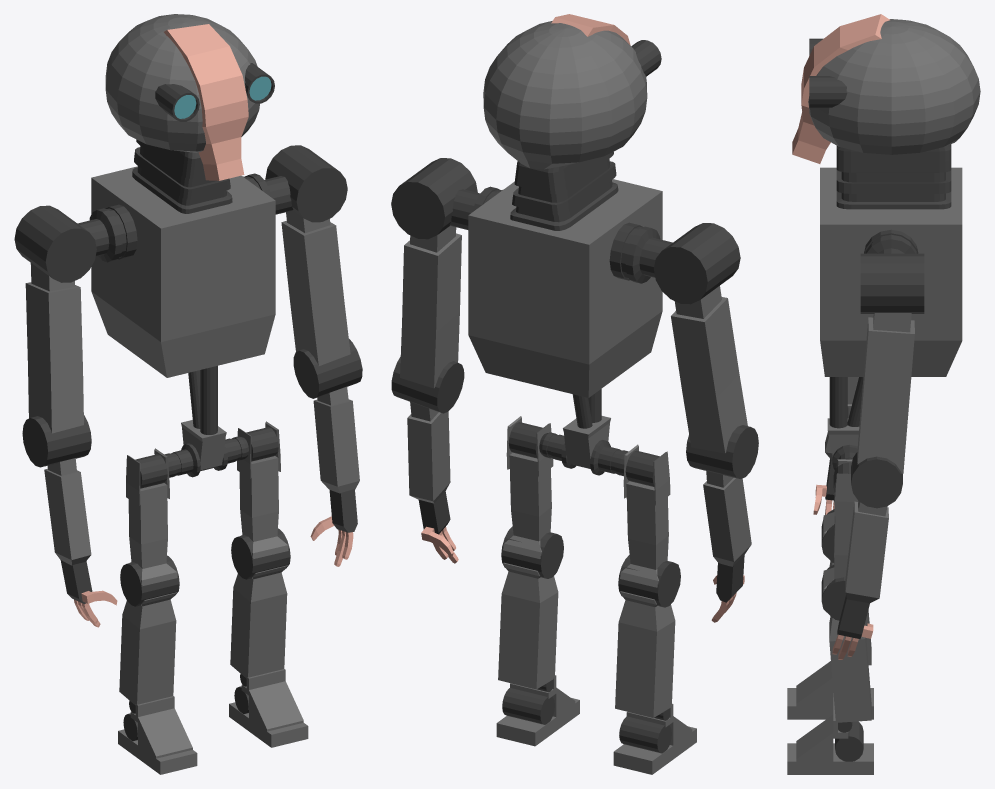
The model's file is robot.fbx.
The picture shows the model from 3 angles, left to right: view 1: azimuth 30°, elevation 25°; view 2: azimuth 150°, elevation 25°; view 3: azimuth 270°, elevation 25°; orthographic projection. The views are drawn at different scales.
Visible parts, largest first — view 1: Cube.007, Sphere, Cube.010, Cube.008, Cube.013, Cube.004, Cube.001, Cube.012, Cylinder.015, Cube.005, Cube.002, Cylinder.012 (+20 smaller); view 2: Cube.007, Sphere, Cube.010, Cube.008, Cube.004, Cube.001, Cube.012, Cylinder.015, Cube.005, Cube.002, Cylinder.012, Cube.009 (+19 smaller); view 3: Cube.007, Sphere, Cube.008, Cube.012, Cylinder.012, Cube.013, Cube.009, Cube, Cube.001, Cylinder.013, Cube.003, Cube.002 (+10 smaller).
Boxes of the visible parts, bbox=[...] form: Cube.007: bbox=[91, 166, 275, 377]; Sphere: bbox=[105, 14, 259, 152]; Cube.010: bbox=[25, 263, 83, 433]; Cube.008: bbox=[281, 210, 350, 365]; Cube.013: bbox=[164, 24, 248, 180]; Cube.004: bbox=[119, 592, 176, 705]; Cube.001: bbox=[230, 565, 287, 678]; Cube.012: bbox=[132, 139, 232, 213]; Cylinder.015: bbox=[14, 205, 96, 282]; Cube.005: bbox=[126, 448, 177, 586]; Cube.002: bbox=[237, 421, 288, 558]; Cylinder.012: bbox=[265, 145, 347, 222]; Cube.007: bbox=[468, 179, 662, 397]; Sphere: bbox=[483, 21, 647, 169]; Cube.010: bbox=[671, 286, 747, 453]; Cube.008: bbox=[400, 226, 461, 388]; Cube.004: bbox=[615, 591, 675, 717]; Cube.001: bbox=[498, 562, 558, 689]; Cube.012: bbox=[510, 152, 618, 230]; Cylinder.015: bbox=[654, 223, 740, 304]; Cube.005: bbox=[620, 444, 678, 587]; Cube.002: bbox=[503, 416, 562, 558]; Cylinder.012: bbox=[391, 158, 477, 239]; Cube.009: bbox=[407, 401, 450, 503]; Cube.007: bbox=[820, 167, 962, 376]; Sphere: bbox=[808, 19, 980, 154]; Cube.008: bbox=[857, 313, 914, 473]; Cube.012: bbox=[836, 144, 951, 209]; Cylinder.012: bbox=[860, 253, 924, 313]; Cube.013: bbox=[792, 14, 889, 163]; Cube.009: bbox=[845, 501, 888, 603]; Cube: bbox=[787, 702, 873, 774]; Cube.001: bbox=[823, 609, 871, 722]; Cylinder.013: bbox=[851, 452, 902, 508]; Cube.003: bbox=[787, 661, 873, 719]; Cube.002: bbox=[822, 459, 858, 593].
Bounding box in the file's own units: 871 × 1809 × 444.
